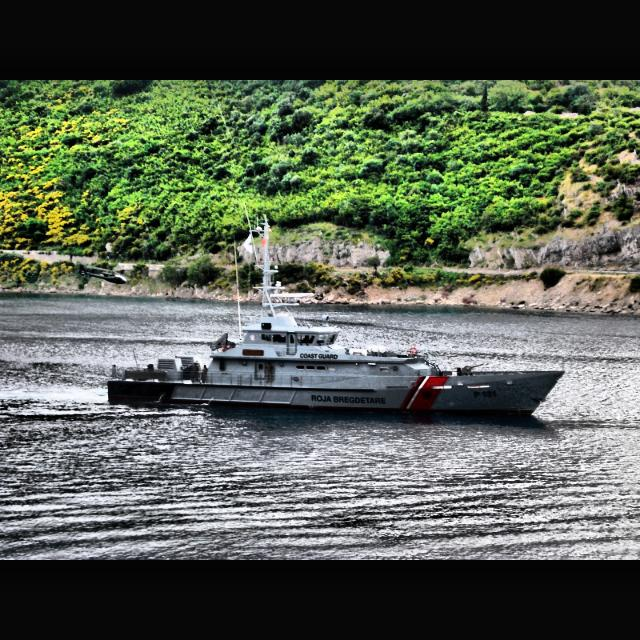patrol_vessel: (105, 211, 565, 419)
